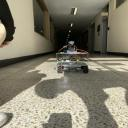cart: (56, 52, 90, 74)
